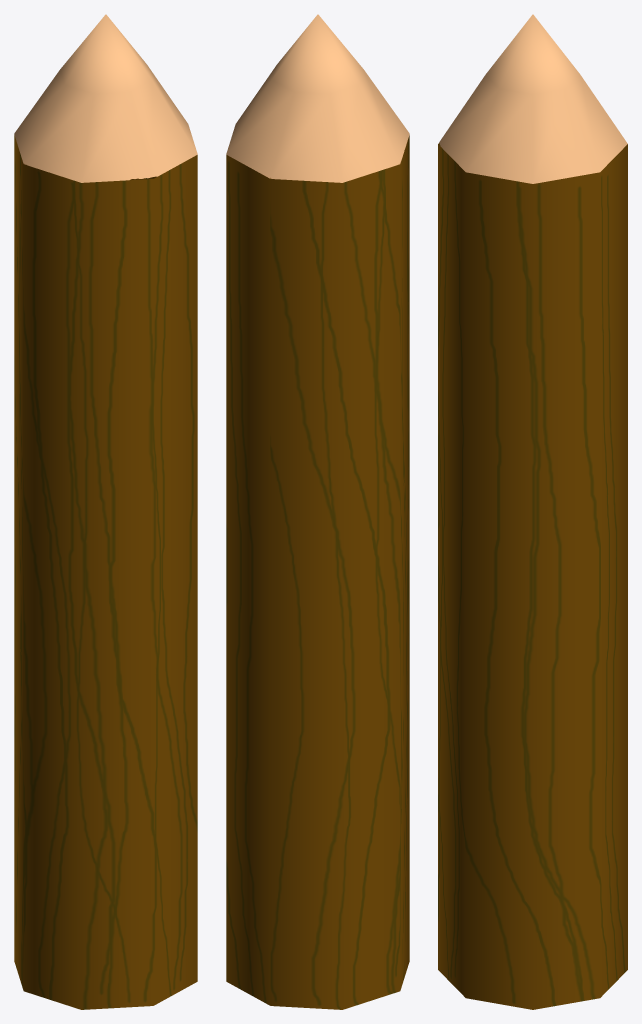
Rendered from Wall_Spike_C.fbx.
3 views of the same model, side by side, from view 1: azimuth 30°, elevation 25°; view 2: azimuth 150°, elevation 25°; view 3: azimuth 270°, elevation 25° (orthographic).
Parts seen in each view (by area): view 1: Wall_Spike_C_01; view 2: Wall_Spike_C_01; view 3: Wall_Spike_C_01.
Part boxes in pixels (x1=…): Wall_Spike_C_01: x1=14, y1=14, x2=197, y2=1009; Wall_Spike_C_01: x1=226, y1=14, x2=409, y2=1009; Wall_Spike_C_01: x1=438, y1=14, x2=627, y2=1009.
Bounding box in the file's own units: 45.49 × 253 × 45.49.
